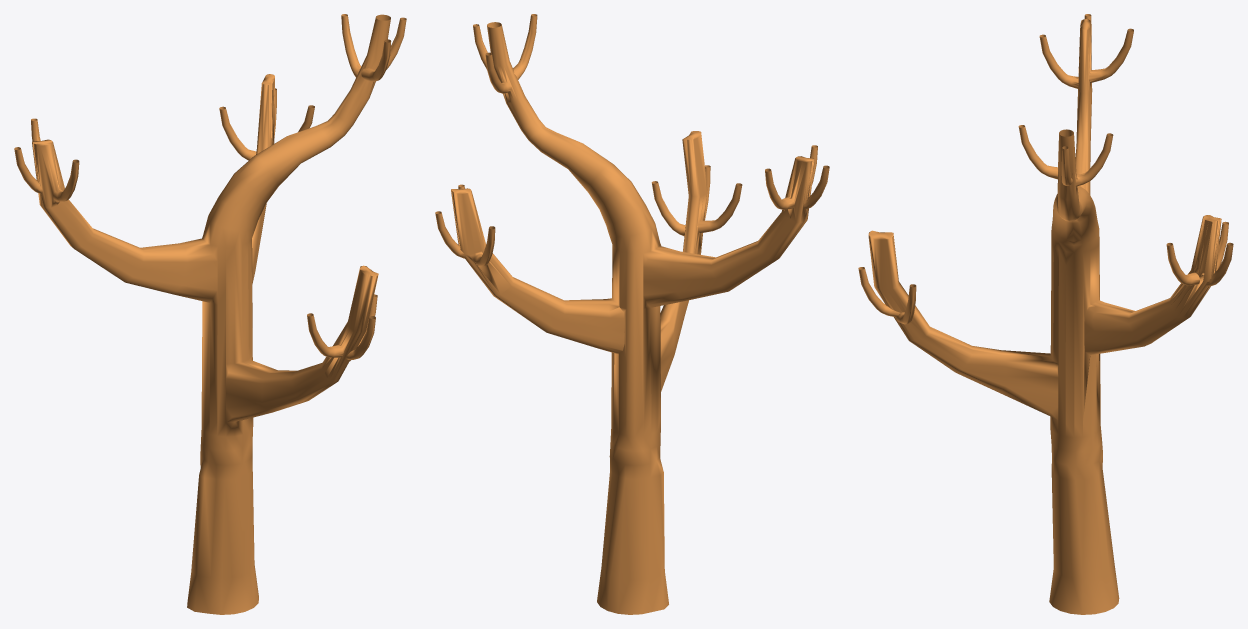
Rendered from treetrunk.fbx.
3 renders of one model, left to right at view 1: azimuth 30°, elevation 25°; view 2: azimuth 150°, elevation 25°; view 3: azimuth 270°, elevation 25°, orthographic. The views are drawn at different scales.
Parts seen in each view (by area): view 1: Trunk; view 2: Trunk; view 3: Trunk.
Boxes of the visible parts, x1=… form: Trunk: x1=14, y1=14, x2=406, y2=614; Trunk: x1=435, y1=14, x2=829, y2=614; Trunk: x1=858, y1=14, x2=1233, y2=614.
Bounding box in the file's own units: 240 × 333 × 210.
